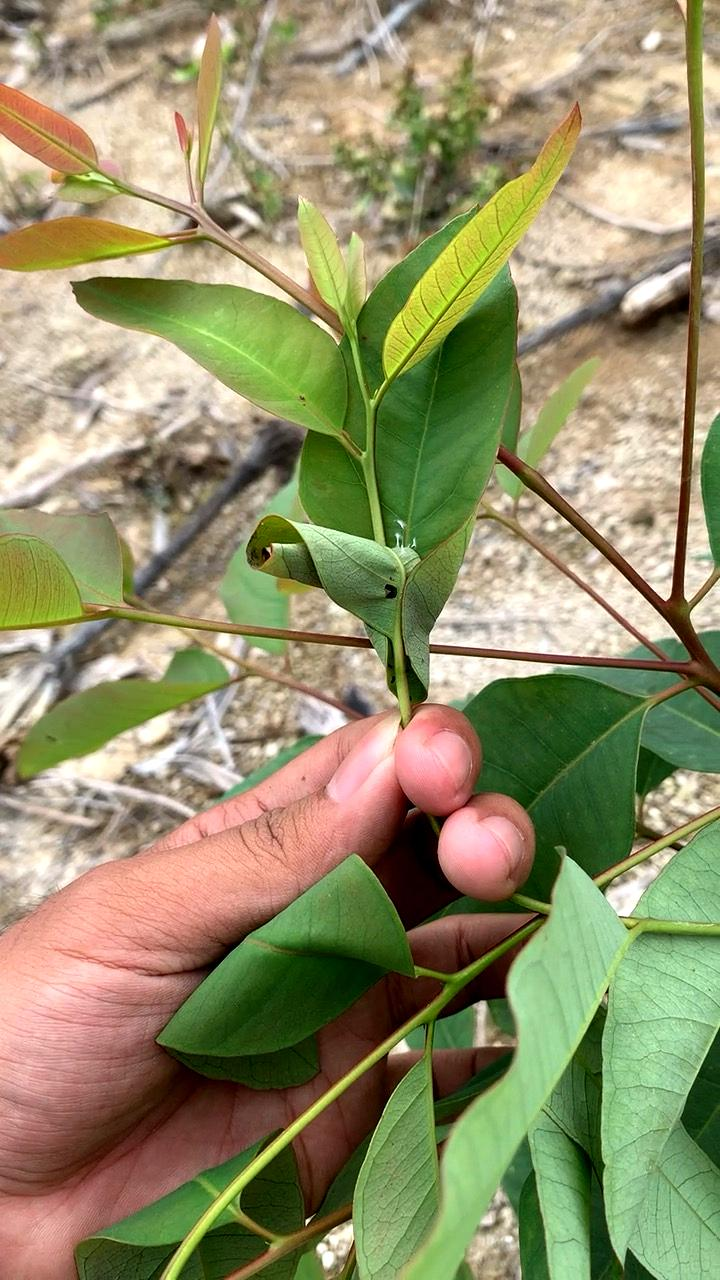Leaf Roller - Leaf: (213, 493, 453, 662)
